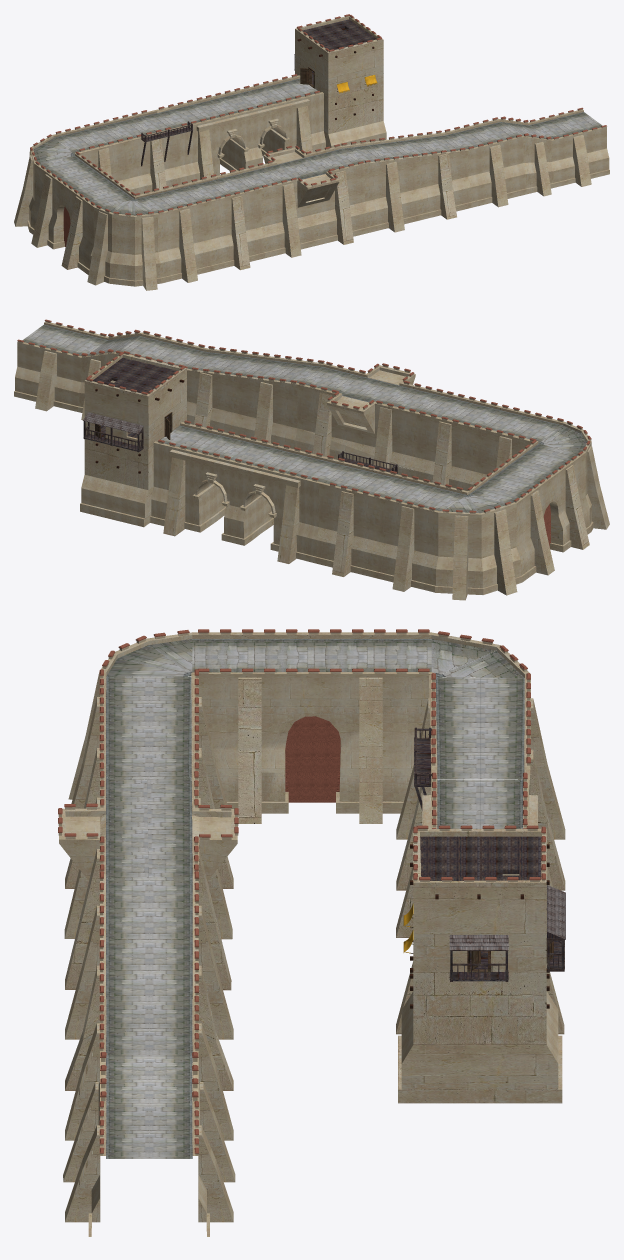
File: castle_wall_kit.glb
3 renders of one model, top to bottom at view 1: azimuth 30°, elevation 25°; view 2: azimuth 150°, elevation 25°; view 3: azimuth 270°, elevation 25°, orthographic. The views are drawn at different scales.
Visible parts, largest first — view 1: Cube.003, prim33.004, prim55.004, prim55.006, prim55.001, prim55.010, prim34.001, prim55.007, prim55.005, prim57.001, prim55.008, prim74.002 (+12 smaller); view 2: Cube.003, prim55.010, prim33.004, prim55.001, prim55.006, prim55.004, prim34.001, prim57.001, prim55.005, prim74.006, prim55.009, prim74.005 (+12 smaller); view 3: prim55.001, prim57.001, prim33.004, prim55.006, prim34.001, prim55.010, prim55.004, prim55.005, prim55.007, prim55.008, Cube.003, Balcony2 (+13 smaller).
Boxes of the visible parts, left/top/right/bottom form: Cube.003: left=156, top=75, right=325, bottom=182; prim33.004: left=237, top=146, right=367, bottom=258; prim55.004: left=135, top=171, right=264, bottom=283; prim55.006: left=340, top=132, right=471, bottom=232; prim55.001: left=29, top=153, right=136, bottom=274; prim55.010: left=52, top=110, right=182, bottom=198; prim34.001: left=295, top=16, right=383, bottom=97; prim55.007: left=444, top=119, right=526, bottom=207; prim55.005: left=528, top=110, right=609, bottom=187; prim57.001: left=295, top=71, right=386, bottom=147; prim55.008: left=500, top=119, right=554, bottom=196; prim74.002: left=135, top=199, right=160, bottom=290; Cube.003: left=150, top=422, right=346, bottom=563; prim55.010: left=315, top=462, right=466, bottom=592; prim33.004: left=295, top=364, right=444, bottom=477; prim55.001: left=467, top=441, right=591, bottom=582; prim55.006: left=185, top=348, right=325, bottom=449; prim55.004: left=414, top=393, right=564, bottom=490; prim34.001: left=84, top=354, right=186, bottom=448; prim57.001: left=80, top=417, right=184, bottom=527; prim55.005: left=14, top=322, right=108, bottom=411; prim74.006: left=435, top=495, right=483, bottom=594; prim55.009: left=452, top=509, right=517, bottom=600; prim74.005: left=467, top=491, right=522, bottom=594; prim55.001: left=192, top=632, right=431, bottom=823; prim57.001: left=398, top=951, right=562, bottom=1103; prim33.004: left=59, top=773, right=237, bottom=990; prim55.006: left=65, top=874, right=233, bottom=1090; prim34.001: left=413, top=828, right=546, bottom=972; prim55.010: left=396, top=674, right=565, bottom=890; prim55.004: left=65, top=672, right=233, bottom=888; prim55.005: left=65, top=1102, right=233, bottom=1236; prim55.007: left=65, top=999, right=233, bottom=1140; prim55.008: left=63, top=1053, right=235, bottom=1182; Cube.003: left=396, top=775, right=564, bottom=1034; Balcony2: left=449, top=935, right=508, bottom=981.
Size of the model in its own units: 137 by 29.27 by 59.49.
12 materials, 12 textured.
